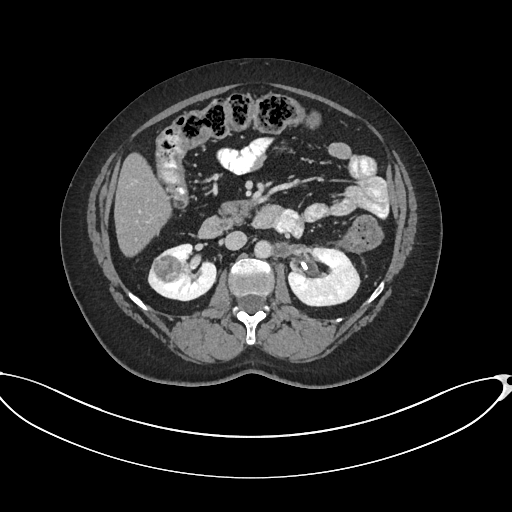Lesion: (149, 252, 184, 289)
